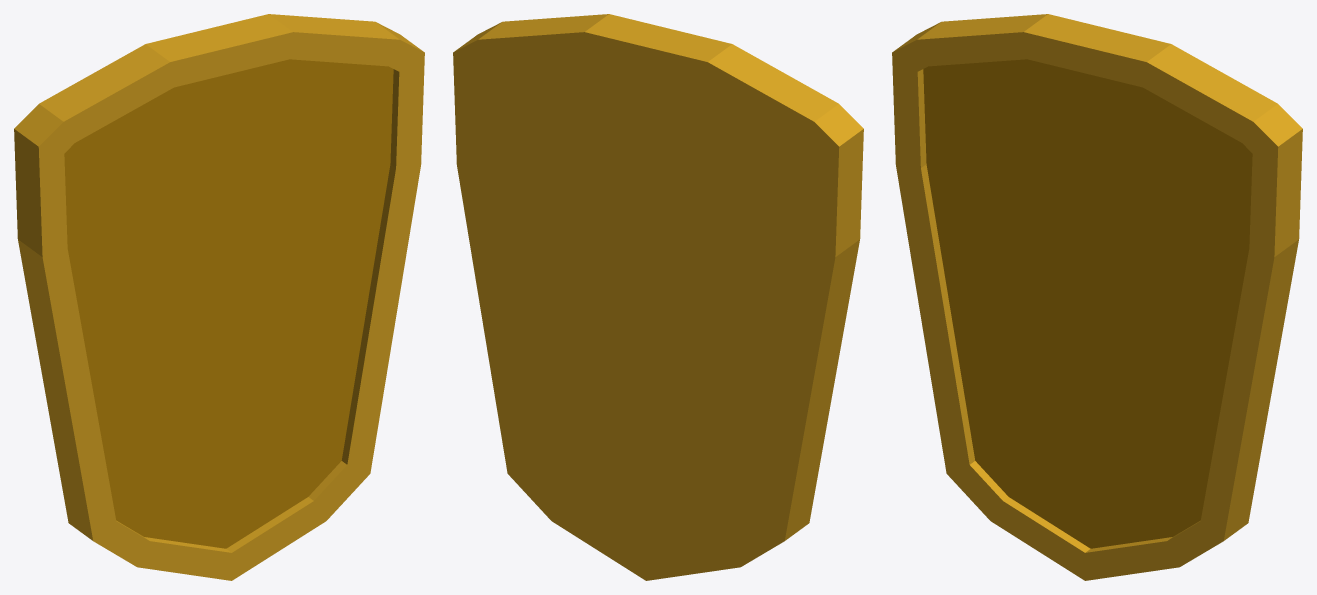
Rendered from Prop_Fantasy_Ornament_Shield_Plaque_02.FBX.
The picture shows the model from 3 angles, left to right: view 1: azimuth 30°, elevation 25°; view 2: azimuth 150°, elevation 25°; view 3: azimuth 330°, elevation 25°; orthographic projection.
Parts seen in each view (by area): view 1: Prop_Fantasy_Ornament_Shield_Plaque_02; view 2: Prop_Fantasy_Ornament_Shield_Plaque_02; view 3: Prop_Fantasy_Ornament_Shield_Plaque_02.
Part boxes in pixels (x1,y1,x2,y2): Prop_Fantasy_Ornament_Shield_Plaque_02: (14, 14, 424, 580); Prop_Fantasy_Ornament_Shield_Plaque_02: (453, 14, 863, 580); Prop_Fantasy_Ornament_Shield_Plaque_02: (892, 14, 1302, 580).
Size of the model in its own units: 865 by 1143 by 95.94.
